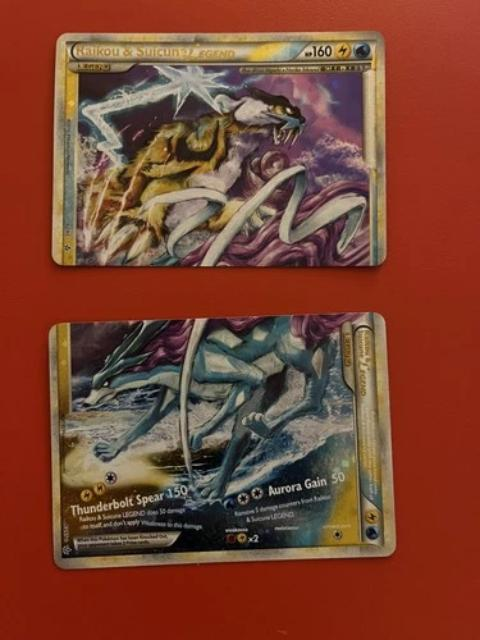Card: (44, 308, 399, 574), (46, 27, 391, 271)
Name: (70, 40, 243, 64), (350, 323, 377, 409)
